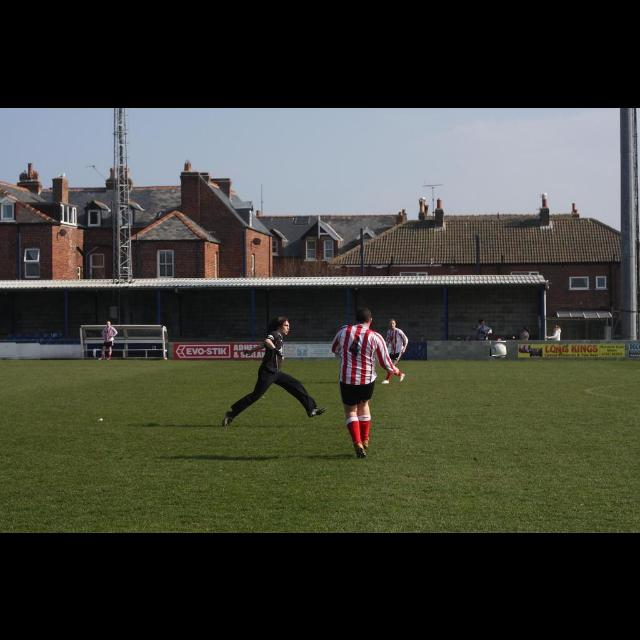Football: (490, 342, 506, 356)
